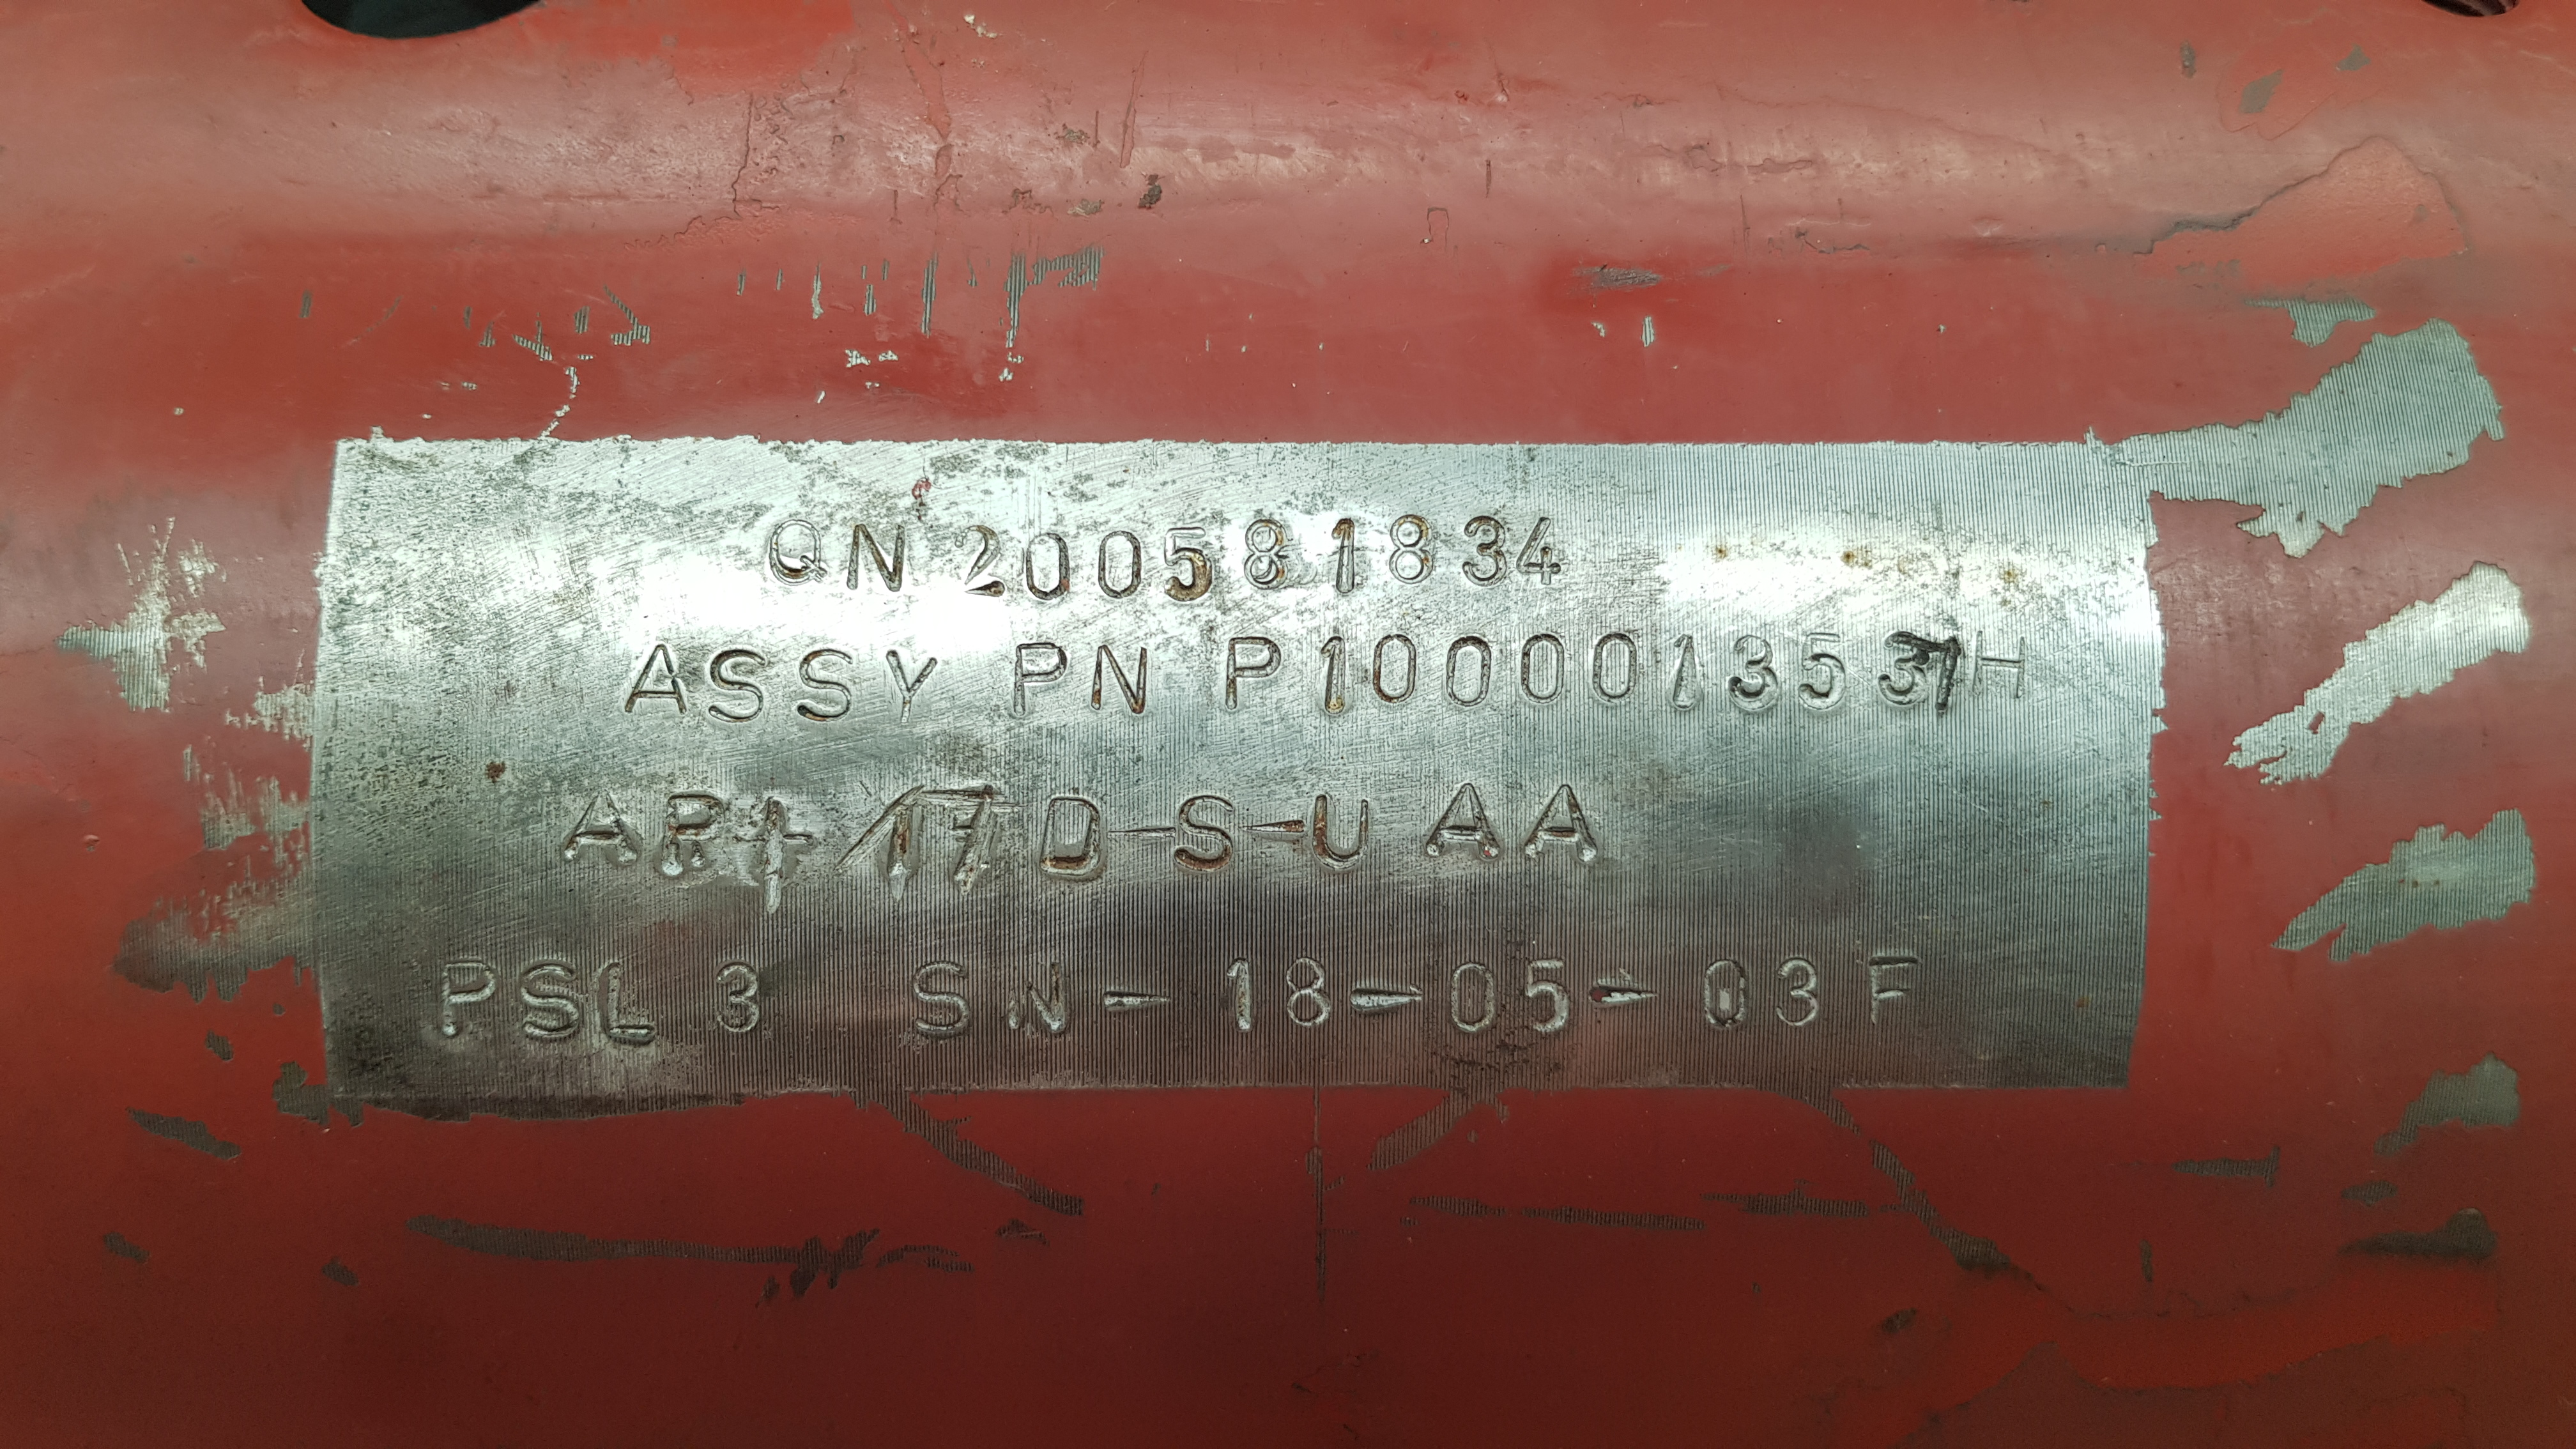character: (840, 782, 945, 911), (1513, 775, 1615, 886), (504, 954, 598, 1058), (1412, 771, 1507, 870), (998, 950, 1086, 1051), (929, 784, 1007, 897), (561, 777, 648, 876), (423, 952, 511, 1047), (902, 948, 980, 1056), (586, 961, 676, 1053), (1300, 784, 1380, 886), (1957, 616, 2045, 706), (844, 517, 922, 616), (653, 784, 729, 885), (1171, 791, 1251, 886), (1035, 784, 1109, 885), (1516, 947, 1583, 1053), (1859, 938, 1930, 1037), (786, 648, 870, 727), (1276, 950, 1343, 1047), (1723, 621, 1787, 724), (619, 640, 697, 720), (1690, 957, 1764, 1040), (878, 640, 943, 734), (1088, 635, 1159, 722), (1794, 623, 1856, 722), (766, 511, 842, 591), (704, 642, 777, 725), (1219, 628, 1286, 717), (1359, 630, 1428, 715), (1437, 948, 1502, 1037), (708, 957, 778, 1039), (1219, 943, 1272, 1051), (1511, 628, 1578, 713), (1007, 637, 1072, 724), (1088, 984, 1191, 1039), (1661, 623, 1718, 722), (952, 508, 1005, 609), (1017, 524, 1079, 609), (1769, 957, 1835, 1037), (1460, 499, 1516, 589), (1162, 522, 1221, 607), (1302, 632, 1357, 722), (1879, 626, 1930, 722), (1587, 628, 1647, 709), (1435, 630, 1497, 708), (1240, 513, 1297, 596), (1090, 527, 1150, 605), (1325, 508, 1371, 607), (1389, 504, 1442, 587), (1589, 977, 1672, 1028), (1346, 980, 1437, 1026), (1518, 513, 1568, 580), (1244, 816, 1304, 858), (1122, 821, 1180, 853)
